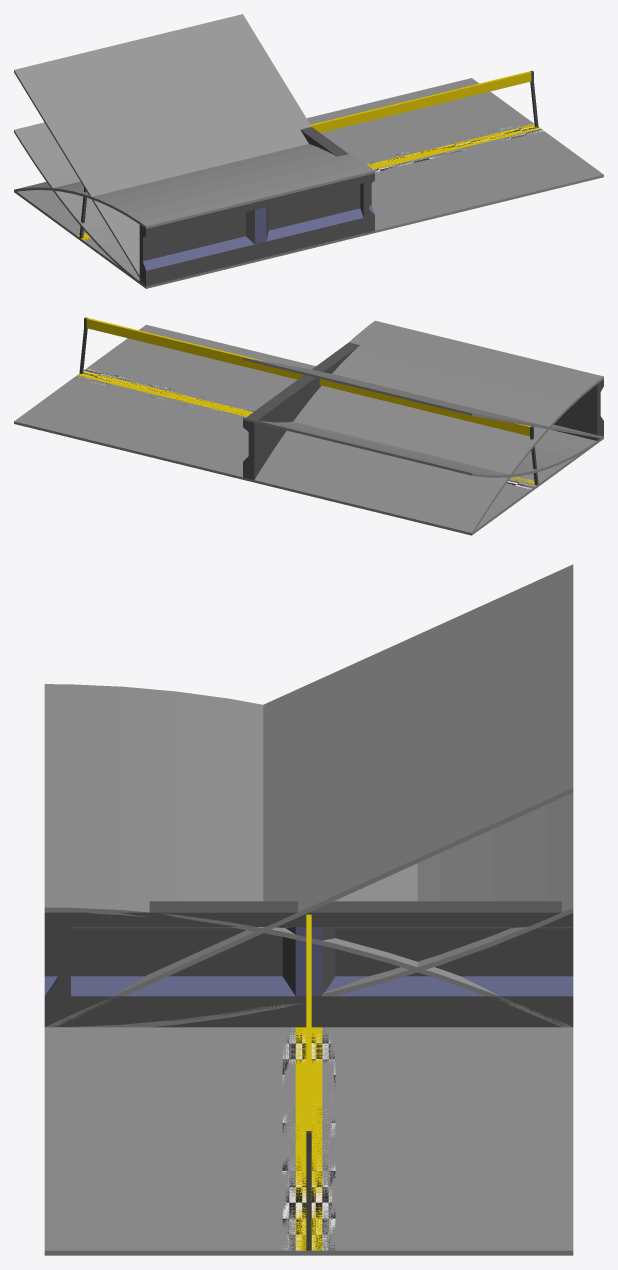
3 views of the same model, one above another, from view 1: azimuth 30°, elevation 25°; view 2: azimuth 150°, elevation 25°; view 3: azimuth 270°, elevation 25° (orthographic). The views are drawn at different scales.
Visible parts, largest first — view 1: PlaneSlope, PlaneCheckpointWide, PlaneWall, PlaneSlopeDown, PlaneFinishWide, PlaneSlopeUp, PlaneWallCorner, PlaneCheckpoint, HalfPlane, PlaneWallInnerCorner; view 2: PlaneSlopeDown, PlaneCheckpointWide, PlaneFinishWide, PlaneWallCorner, PlaneSlopeUp, PlaneCheckpoint, PlaneSlope, PlaneWall, HalfPlane, PlaneFinish, Plane; view 3: PlaneCheckpointWide, PlaneSlope, PlaneFinishWide, PlaneWallCorner, PlaneSlopeDown, PlaneSlopeUp, PlaneWallInnerCorner, PlaneWall.
Boxes of the visible parts, x1=… form: PlaneSlope: x1=14, y1=14, x2=311, y2=286; PlaneCheckpointWide: x1=18, y1=70, x2=603, y2=288; PlaneWall: x1=139, y1=173, x2=374, y2=288; PlaneSlopeDown: x1=14, y1=144, x2=374, y2=228; PlaneFinishWide: x1=27, y1=78, x2=601, y2=229; PlaneSlopeUp: x1=14, y1=122, x2=144, y2=287; PlaneWallCorner: x1=147, y1=127, x2=374, y2=234; PlaneCheckpoint: x1=15, y1=187, x2=371, y2=288; HalfPlane: x1=14, y1=190, x2=374, y2=288; PlaneWallInnerCorner: x1=360, y1=174, x2=374, y2=233; PlaneSlopeDown: x1=254, y1=320, x2=603, y2=532; PlaneCheckpointWide: x1=14, y1=317, x2=573, y2=534; PlaneFinishWide: x1=16, y1=325, x2=530, y2=527; PlaneWallCorner: x1=243, y1=342, x2=597, y2=480; PlaneSlopeUp: x1=243, y1=417, x2=596, y2=477; PlaneCheckpoint: x1=243, y1=379, x2=603, y2=535; PlaneSlope: x1=243, y1=357, x2=603, y2=438; PlaneWall: x1=553, y1=379, x2=603, y2=440; HalfPlane: x1=472, y1=437, x2=603, y2=534; PlaneFinish: x1=473, y1=464, x2=565, y2=532; Plane: x1=243, y1=463, x2=566, y2=535; PlaneCheckpointWide: x1=44, y1=914, x2=573, y2=1255; PlaneSlope: x1=45, y1=564, x2=573, y2=1027; PlaneFinishWide: x1=44, y1=1027, x2=573, y2=1255; PlaneWallCorner: x1=44, y1=901, x2=573, y2=1027; PlaneSlopeDown: x1=44, y1=684, x2=572, y2=1027; PlaneSlopeUp: x1=54, y1=793, x2=573, y2=1027; PlaneWallInnerCorner: x1=44, y1=921, x2=70, y2=1027; PlaneWall: x1=44, y1=912, x2=70, y2=1026.
Bounding box in the file's own units: 40 × 10.21 × 20.
